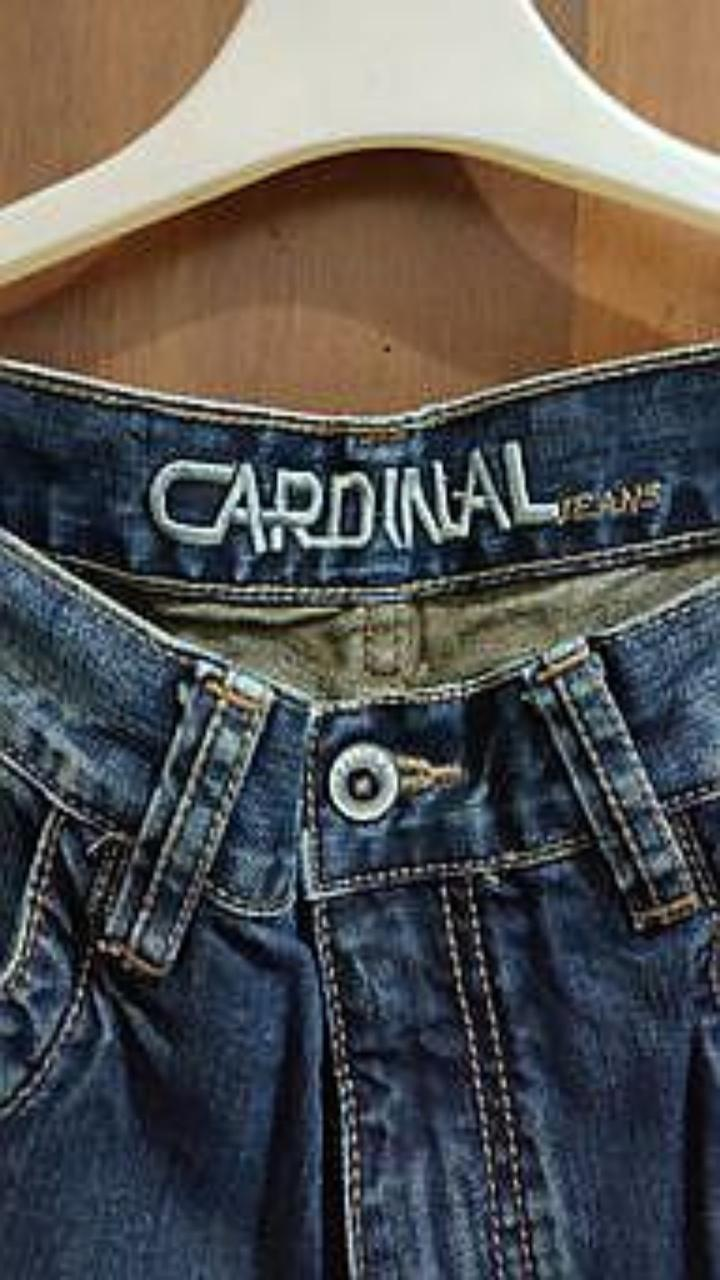Shorts: (0, 343, 719, 1279)
